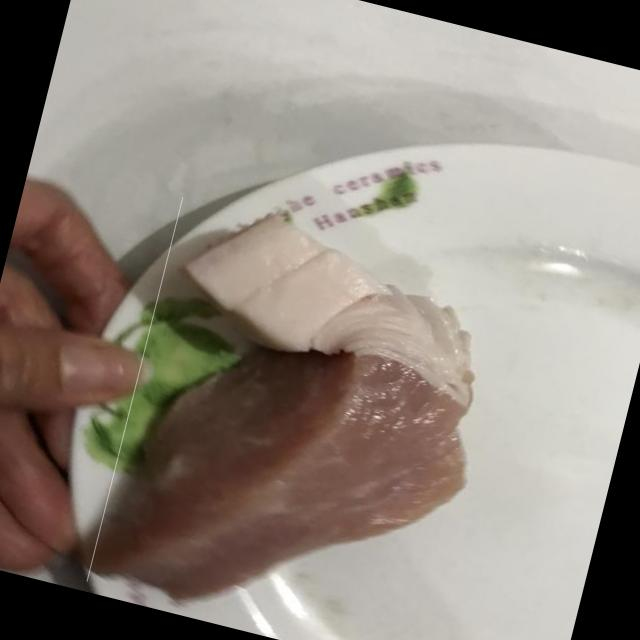chicken: (85, 196, 516, 640)
